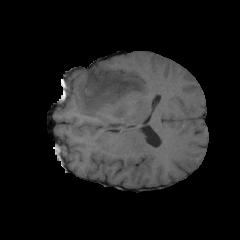glioma: (71, 63, 158, 123)
